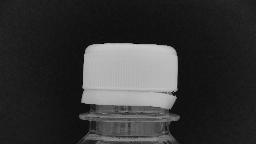Broken Ring: (132, 86, 182, 102)
Loose Cap: (78, 80, 184, 126)
